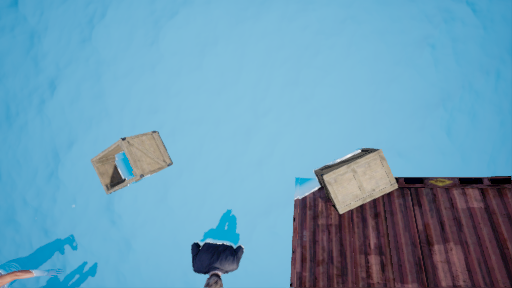person: (191, 210, 244, 288)
